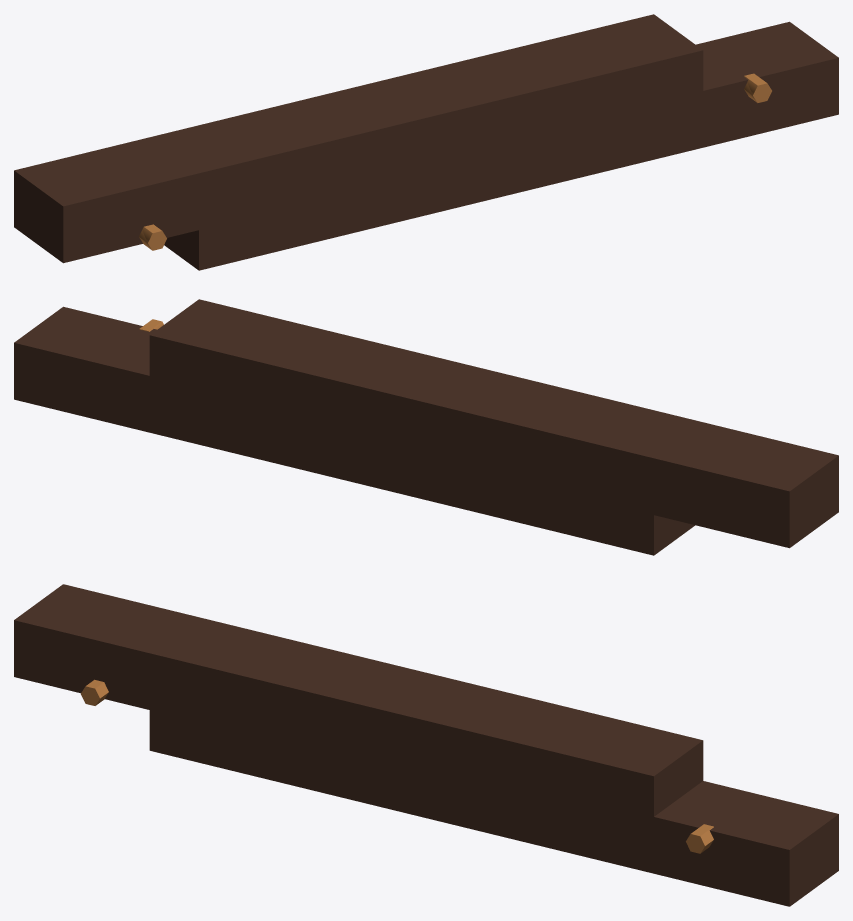
The model's file is 824_scarf_joint_wall_plate.fbx.
The picture shows the model from 3 angles, top to bottom: view 1: azimuth 30°, elevation 25°; view 2: azimuth 150°, elevation 25°; view 3: azimuth 330°, elevation 25°; orthographic projection.
Visible parts, largest first — view 1: 824_scarf_joint_wall_plate; view 2: 824_scarf_joint_wall_plate; view 3: 824_scarf_joint_wall_plate.
Boxes of the visible parts, x1=… form: 824_scarf_joint_wall_plate: x1=14, y1=14, x2=838, y2=270; 824_scarf_joint_wall_plate: x1=14, y1=299, x2=838, y2=555; 824_scarf_joint_wall_plate: x1=14, y1=584, x2=838, y2=906.
Bounding box in the file's own units: 2 × 0.24 × 0.26.
Materials: 1 (1 with a texture image).
